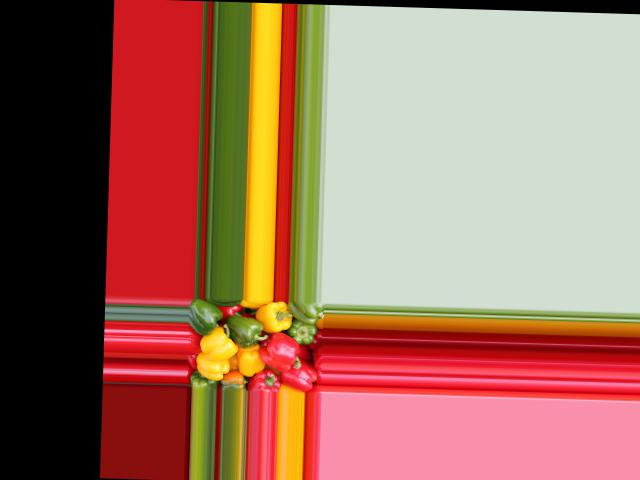bell_pepper: (191, 373, 221, 390)
